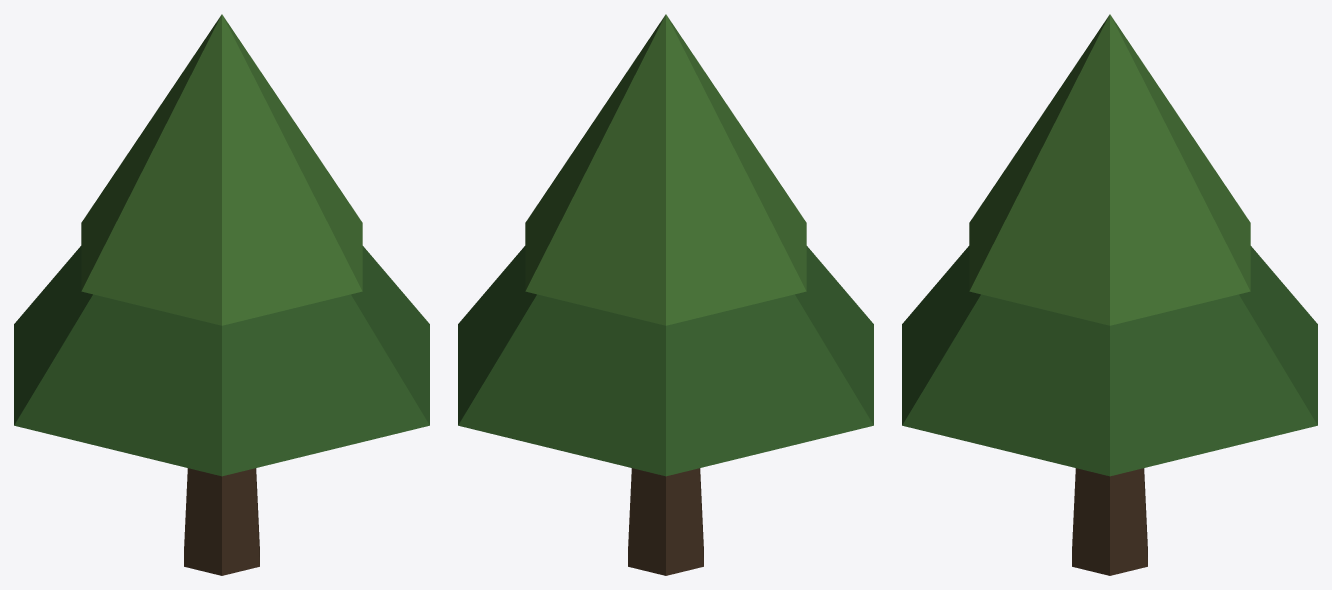
File: tree.obj
3 views of the same model, side by side, from view 1: azimuth 30°, elevation 25°; view 2: azimuth 150°, elevation 25°; view 3: azimuth 270°, elevation 25° (orthographic).
Parts seen in each view (by area): view 1: tree; view 2: tree; view 3: tree.
Boxes of the visible parts, <box> form: tree: <box>14,14,429,575</box>; tree: <box>458,14,873,575</box>; tree: <box>902,14,1317,575</box>.
Bounding box in the file's own units: 0.68 × 0.8492 × 0.5888.
